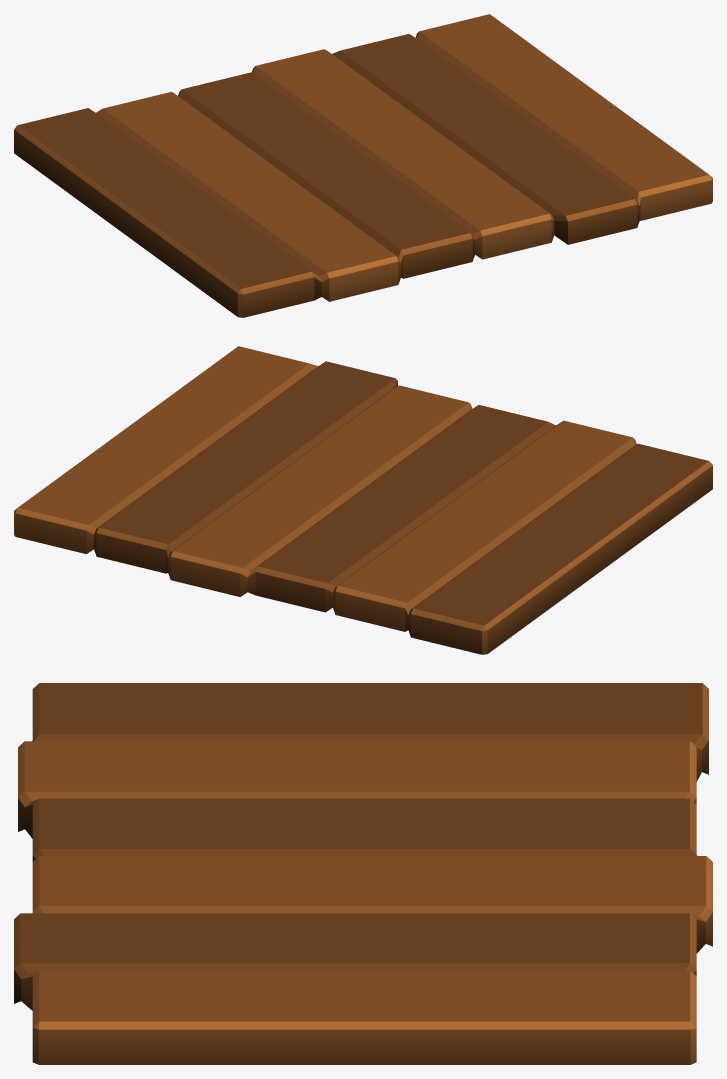
File: Floor-1.fbx
The picture shows the model from 3 angles, top to bottom: view 1: azimuth 30°, elevation 25°; view 2: azimuth 150°, elevation 25°; view 3: azimuth 270°, elevation 25°; orthographic projection. The views are drawn at different scales.
Visible parts, largest first — view 1: Floor-1; view 2: Floor-1; view 3: Floor-1.
Boxes of the visible parts, left/top/right/bottom form: Floor-1: left=14, top=14, right=712, bottom=317; Floor-1: left=14, top=346, right=712, bottom=654; Floor-1: left=14, top=683, right=712, bottom=1064.
Size of the model in its own units: 555 by 30.62 by 477.
